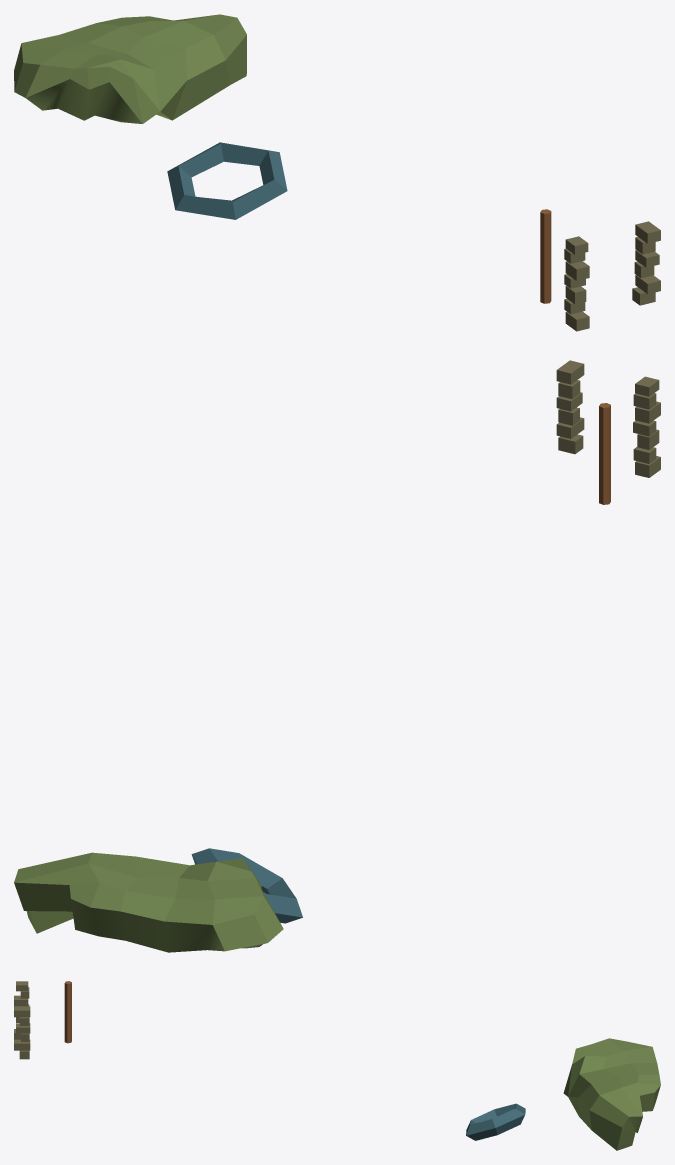
3 renders of one model, top to bottom at view 1: azimuth 30°, elevation 25°; view 2: azimuth 150°, elevation 25°; view 3: azimuth 270°, elevation 25°, orthographic. The views are drawn at different scales.
Visible parts, largest first — view 1: Plane068_green3_0, Torus027_metal_0, Box15453_rock2_0, Cylinder1675_brown_0; view 2: Plane068_green3_0, Box15453_rock2_0, Torus027_metal_0, Cylinder1675_brown_0; view 3: Plane068_green3_0, Torus027_metal_0, Box15453_rock2_0, Cylinder1675_brown_0.
Part boxes in pixels (bbox=[...]): Plane068_green3_0: bbox=[14, 14, 246, 123]; Torus027_metal_0: bbox=[167, 142, 287, 219]; Box15453_rock2_0: bbox=[564, 221, 660, 331]; Cylinder1675_brown_0: bbox=[540, 209, 551, 303]; Plane068_green3_0: bbox=[14, 852, 283, 952]; Box15453_rock2_0: bbox=[556, 360, 660, 477]; Torus027_metal_0: bbox=[191, 848, 302, 923]; Cylinder1675_brown_0: bbox=[599, 403, 610, 504]; Plane068_green3_0: bbox=[563, 1038, 660, 1150]; Torus027_metal_0: bbox=[466, 1103, 525, 1140]; Box15453_rock2_0: bbox=[14, 981, 30, 1059]; Cylinder1675_brown_0: bbox=[64, 981, 71, 1043].
Size of the model in its own units: 826 by 790 by 3011.
